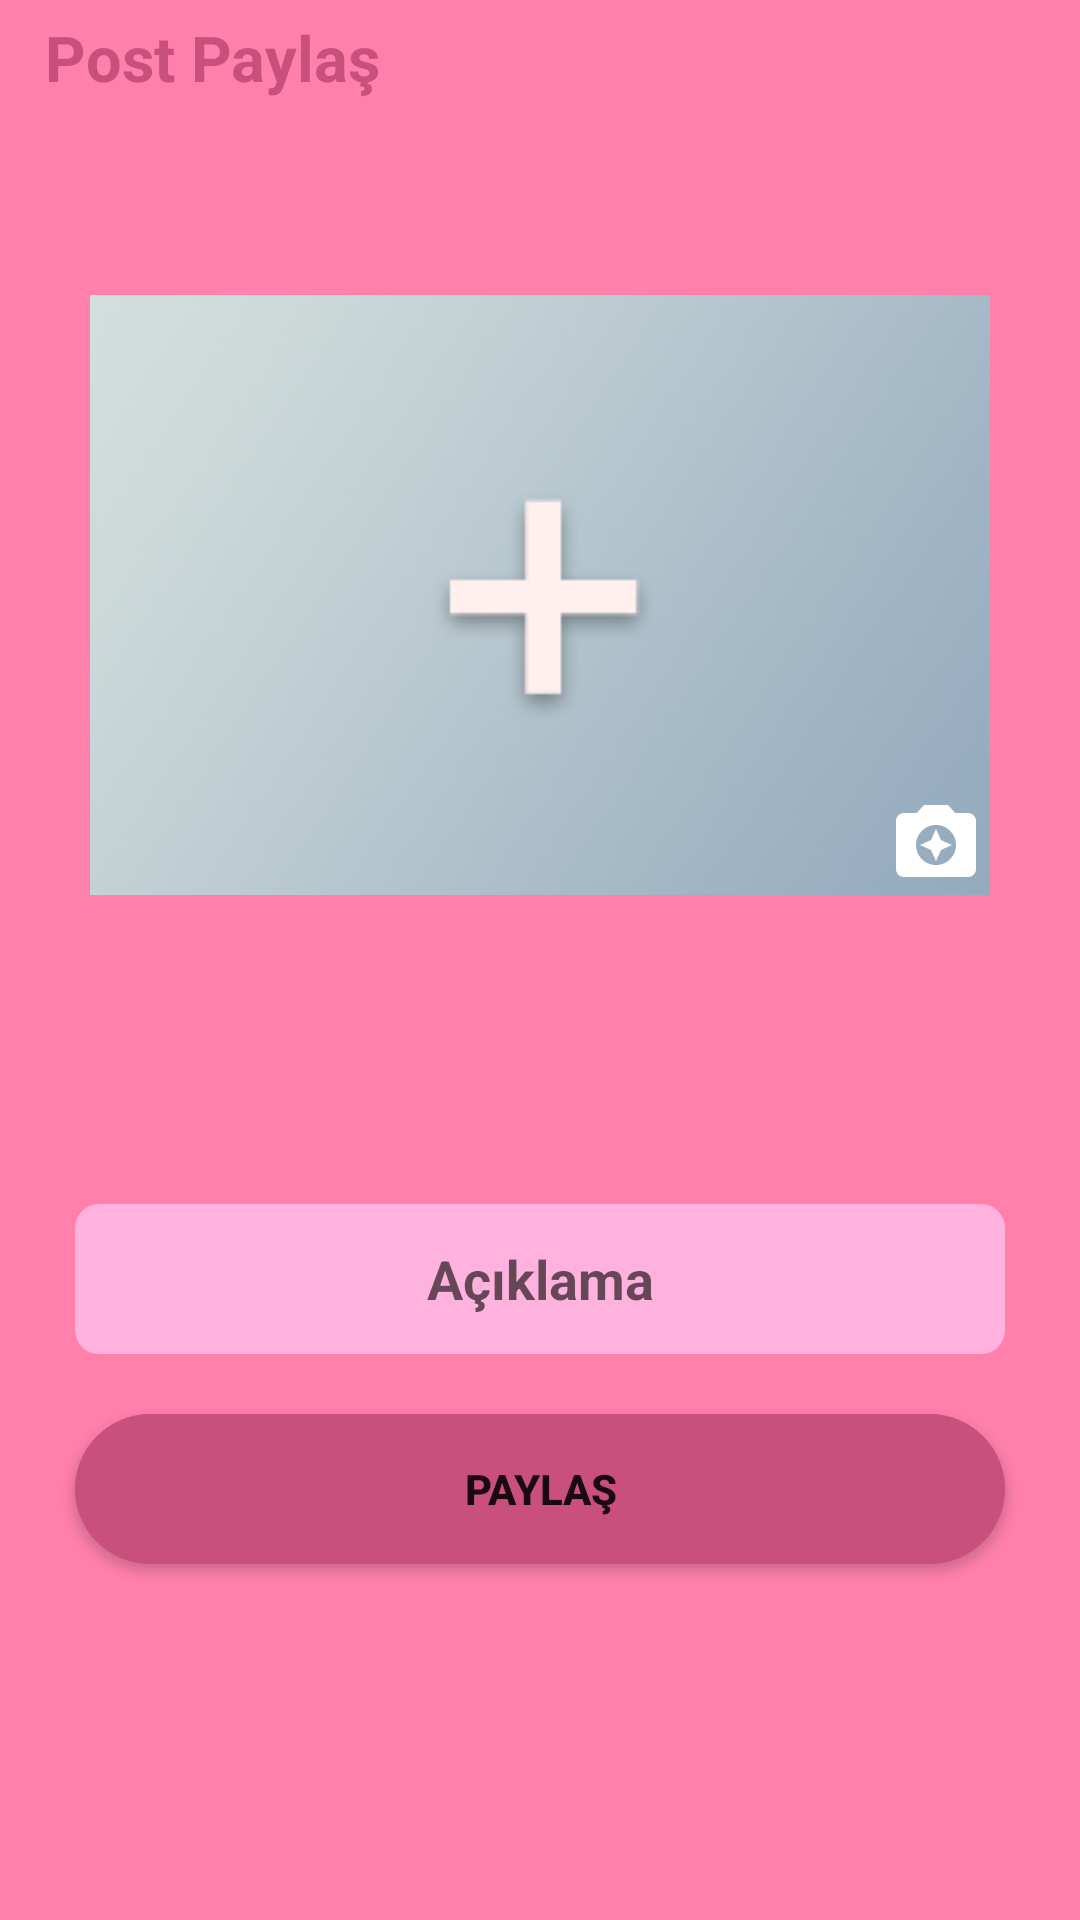

Named icons in this screenshot (1080*1920) and their bounding boxes, bbox=(x1, y1, x2, y2):
camera: bbox=(896, 805, 976, 877)
